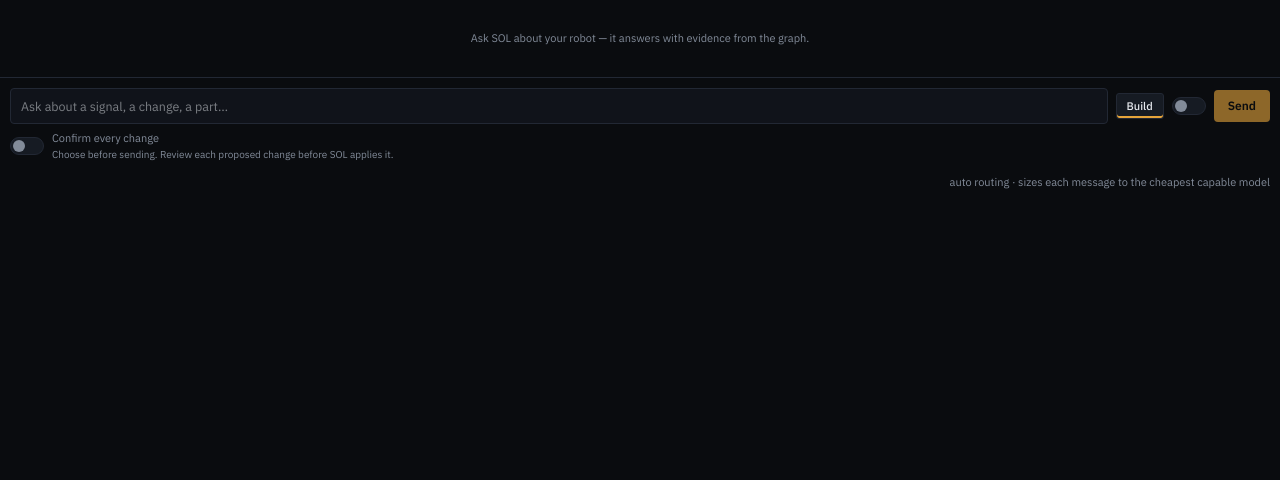
Test: SolChat destructive-action approval › keeps the card, with the server reason, when the decision fails
This screenshot has width=1280, height=480.
Type "make it wider" into the dropdown with placeholder "Ask about a signal, a change, a part…" at (559, 106), box [10, 88, 1108, 124]
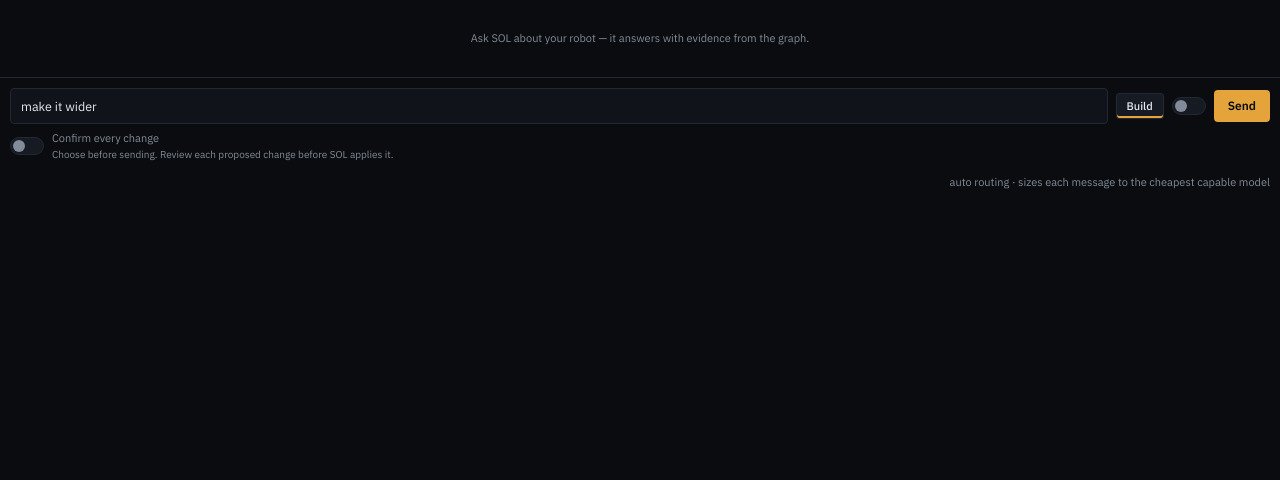
Click the button "Send" at (1242, 106), box [1214, 90, 1270, 122]
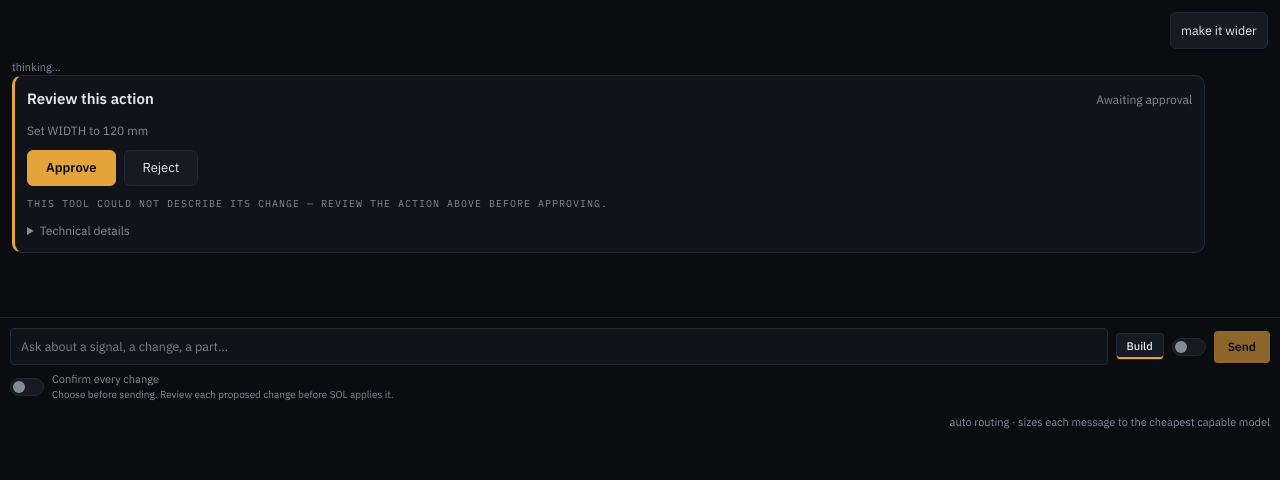
Click the button "Approve" at (71, 168), box [27, 150, 116, 186]
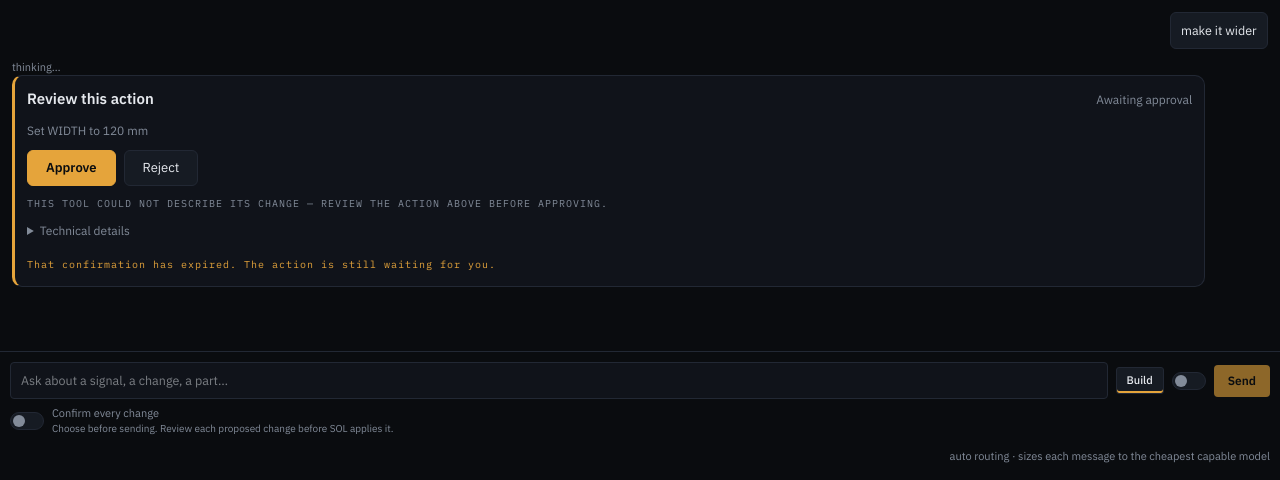
Expected: the element named "Action needs your approval" is shown, [12, 75, 1205, 287]
Expected: the text "That confirmation has expired" is shown, [27, 258, 237, 271]
